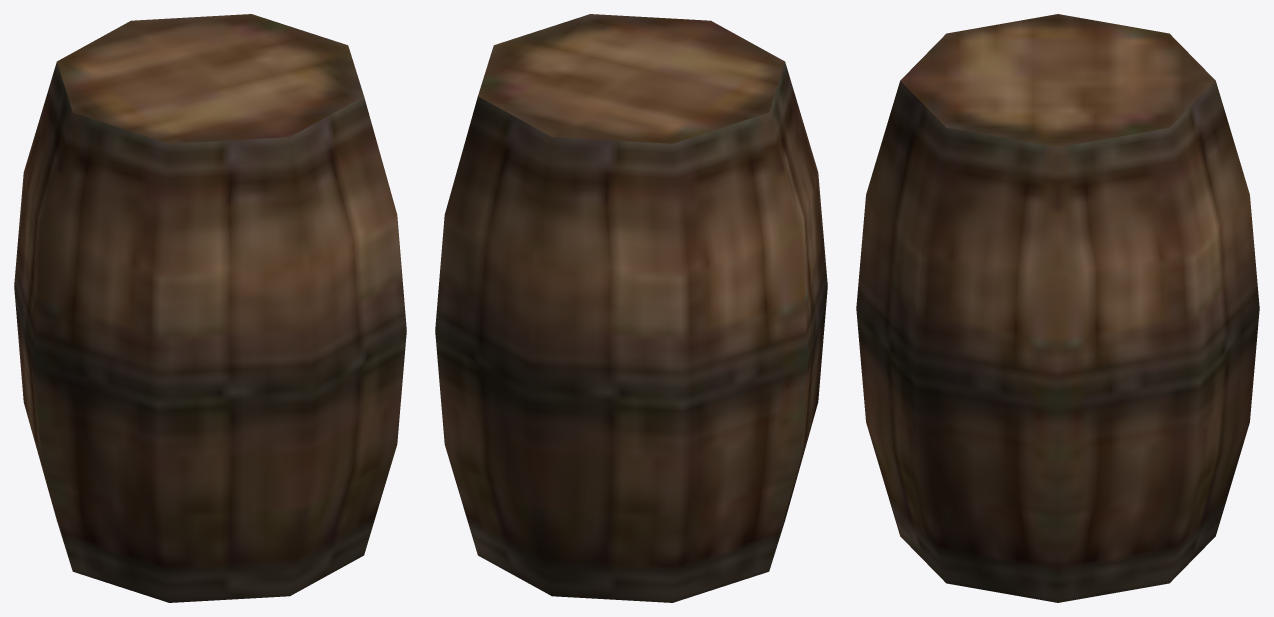
The model's file is GYMA00038_08.FBX.
The picture shows the model from 3 angles, left to right: view 1: azimuth 30°, elevation 25°; view 2: azimuth 150°, elevation 25°; view 3: azimuth 270°, elevation 25°; orthographic projection.
Visible parts, largest first — view 1: MA00038_08; view 2: MA00038_08; view 3: MA00038_08.
Boxes of the visible parts, x1,y1,x2,y2 form: MA00038_08: (14,14,406,602); MA00038_08: (435,14,827,602); MA00038_08: (856,14,1259,602).
Bounding box in the file's own units: 1.35 × 1.68 × 1.35.
